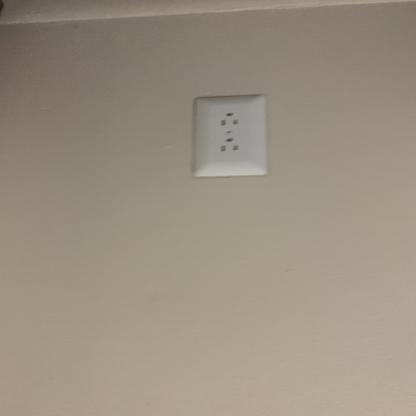OUTLET: (190, 94, 268, 177)
